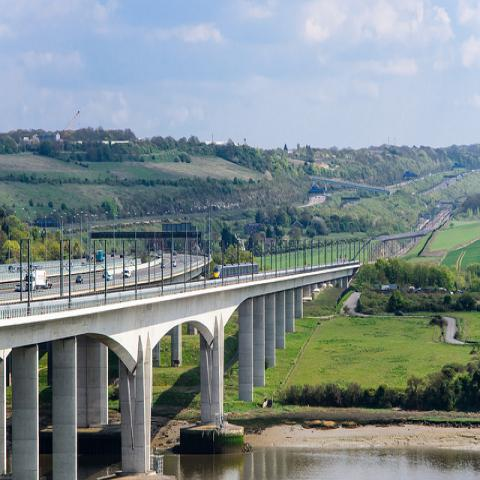car: (81, 261, 405, 317), (15, 282, 28, 292), (8, 265, 17, 273), (76, 276, 84, 284), (125, 270, 132, 278), (102, 271, 109, 278), (106, 274, 114, 280), (160, 262, 166, 268), (173, 260, 177, 268), (158, 250, 162, 255), (120, 252, 123, 258), (174, 250, 177, 256), (111, 252, 114, 258), (318, 197, 320, 198)
truck: (25, 270, 46, 291), (90, 249, 104, 262)
